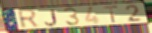2: (125, 4, 144, 23)
3: (62, 7, 81, 27)
4: (85, 5, 102, 25)
J: (44, 9, 59, 27)
R: (17, 8, 42, 30)
T: (102, 5, 120, 24)
